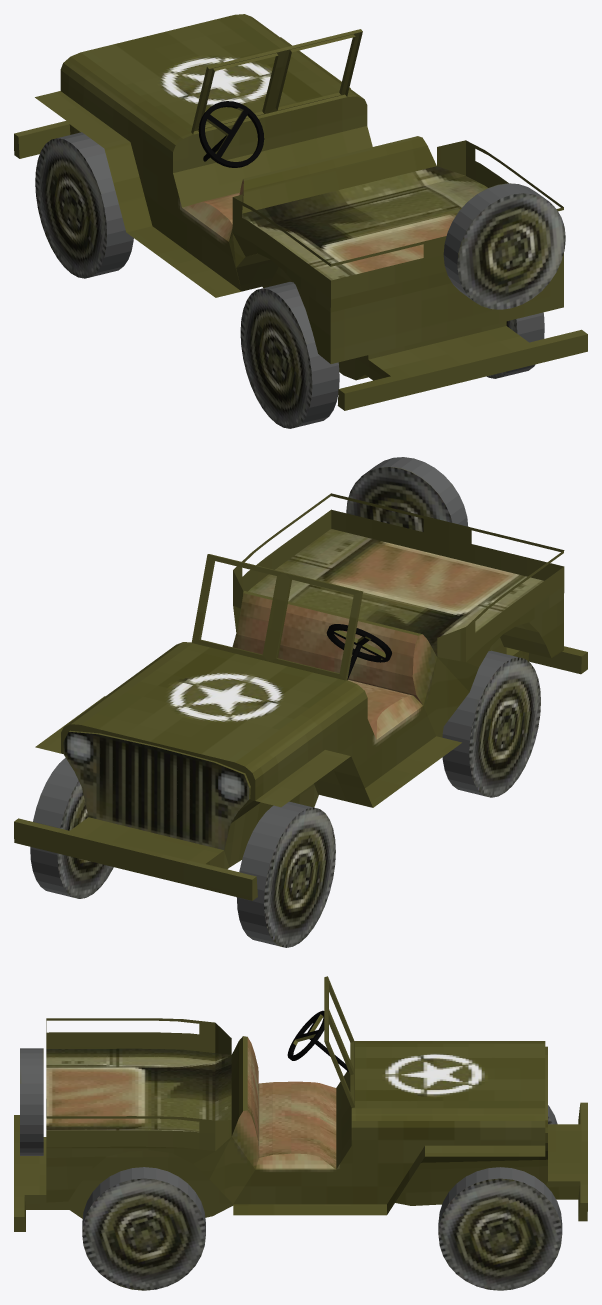
The model's file is jeep_military.fbx.
The picture shows the model from 3 angles, top to bottom: view 1: azimuth 30°, elevation 25°; view 2: azimuth 150°, elevation 25°; view 3: azimuth 270°, elevation 25°; orthographic projection. The views are drawn at different scales.
Parts seen in each view (by area): view 1: Cube.001; view 2: Cube.001; view 3: Cube.001.
Part boxes in pixels (x1,y1,x2,y2): Cube.001: (14, 14, 587, 428); Cube.001: (14, 457, 587, 947); Cube.001: (14, 976, 587, 1290).
Bounding box in the file's own units: 145 × 152 × 340.
